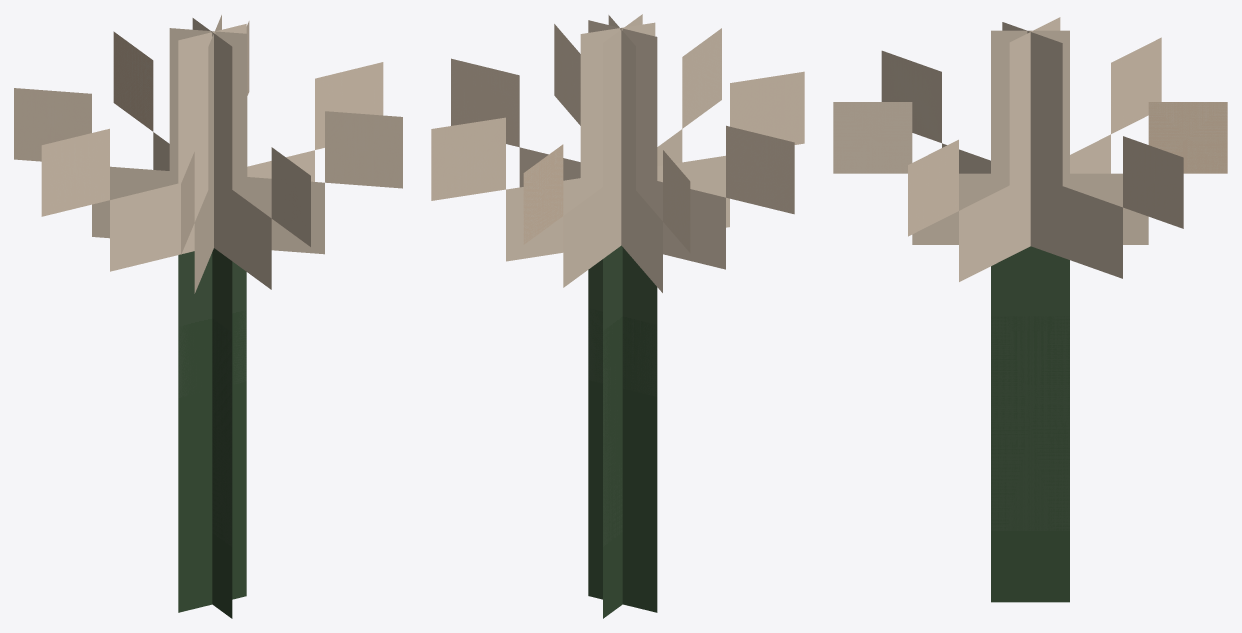
The model's file is Flower.fbx.
3 renders of one model, left to right at view 1: azimuth 30°, elevation 25°; view 2: azimuth 150°, elevation 25°; view 3: azimuth 270°, elevation 25°, orthographic.
Parts seen in each view (by area): view 1: cube, cube_1, cube_2, cube_15, cube_14, cube_4, cube_10, cube_5, cube_17, cube_16, cube_3, cube_13 (+5 smaller); view 2: cube, cube_1, cube_21, cube_4, cube_18, cube_10, cube_2, cube_19, cube_3, cube_20, cube_5, cube_14 (+6 smaller); view 3: cube_1, cube_18, cube_14, cube_11, cube_13, cube_20, cube_10, cube_21, cube_12, cube_15, cube_19, cube_17 (+1 smaller).
Boxes of the visible parts, x1,y1,x2,y2 form: cube: (178, 251, 246, 612); cube_1: (212, 248, 232, 618); cube_2: (110, 150, 314, 271); cube_15: (325, 111, 402, 188); cube_14: (92, 166, 324, 254); cube_4: (41, 128, 109, 216); cube_10: (153, 132, 271, 289); cube_5: (178, 24, 246, 183); cube_17: (14, 88, 91, 161); cube_16: (169, 28, 247, 176); cube_3: (315, 62, 383, 149); cube_13: (113, 31, 153, 131); cube: (588, 247, 657, 612); cube_1: (603, 245, 622, 618); cube_21: (431, 117, 505, 200); cube_4: (726, 125, 794, 214); cube_18: (506, 155, 729, 261); cube_10: (563, 129, 682, 287); cube_2: (519, 147, 725, 269); cube_19: (730, 71, 804, 144); cube_3: (451, 58, 519, 147); cube_20: (580, 22, 655, 177); cube_5: (588, 20, 657, 180); cube_14: (621, 174, 662, 292); cube_1: (991, 246, 1069, 602); cube_18: (942, 143, 1122, 278); cube_14: (959, 134, 1110, 281); cube_11: (833, 102, 912, 173); cube_13: (1148, 102, 1227, 173); cube_20: (1002, 22, 1062, 185); cube_10: (912, 173, 1148, 244); cube_21: (1123, 136, 1183, 228); cube_12: (991, 30, 1069, 173); cube_15: (908, 139, 958, 236); cube_19: (881, 50, 941, 142); cube_17: (1111, 37, 1161, 133).
Size of the model in its own units: 31.25 by 50 by 31.25.
2 materials, 2 textured.
